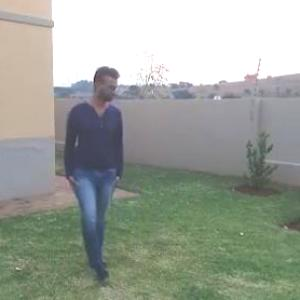follow: (63, 56, 142, 291)
